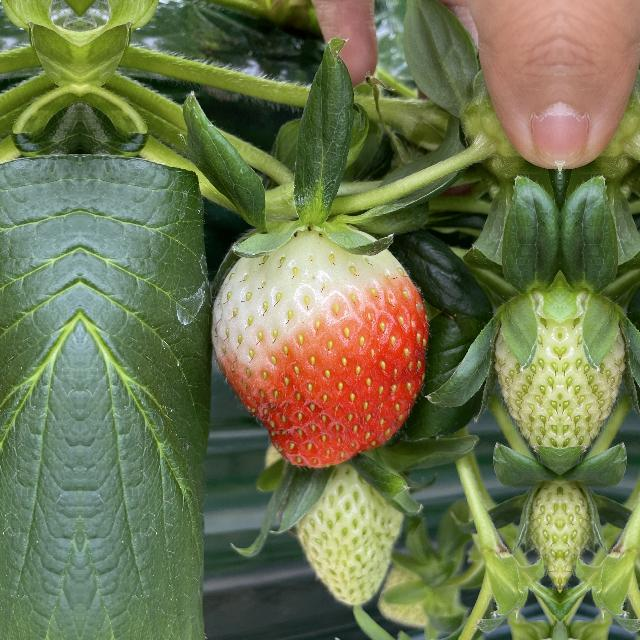Health_25: (291, 456, 409, 610), (492, 298, 560, 450), (560, 298, 628, 450)
Health_75: (202, 223, 438, 471)
